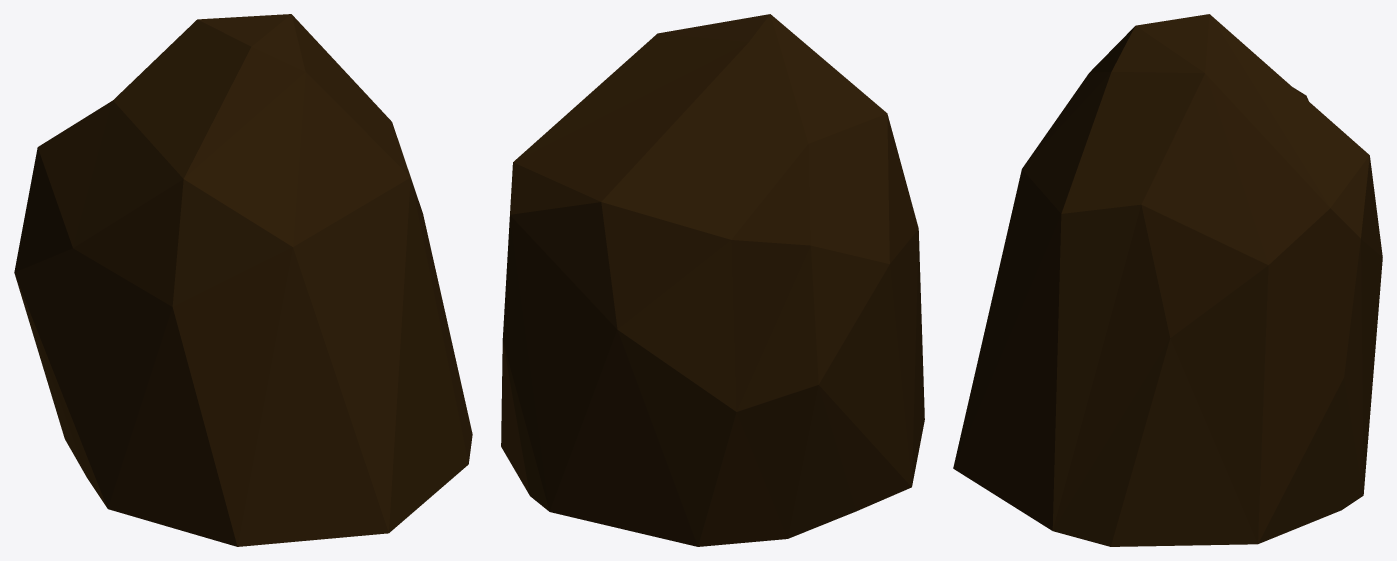
Rendered from Flat Rock 4.fbx.
3 renders of one model, left to right at view 1: azimuth 30°, elevation 25°; view 2: azimuth 150°, elevation 25°; view 3: azimuth 270°, elevation 25°, orthographic. The views are drawn at different scales.
Parts seen in each view (by area): view 1: Flat Rock 4; view 2: Flat Rock 4; view 3: Flat Rock 4.
Boxes of the visible parts, x1,y1,x2,y2 form: Flat Rock 4: (14,14,472,546); Flat Rock 4: (501,14,924,546); Flat Rock 4: (953,14,1382,546).
Bounding box in the file's own units: 164 × 191 × 175.
